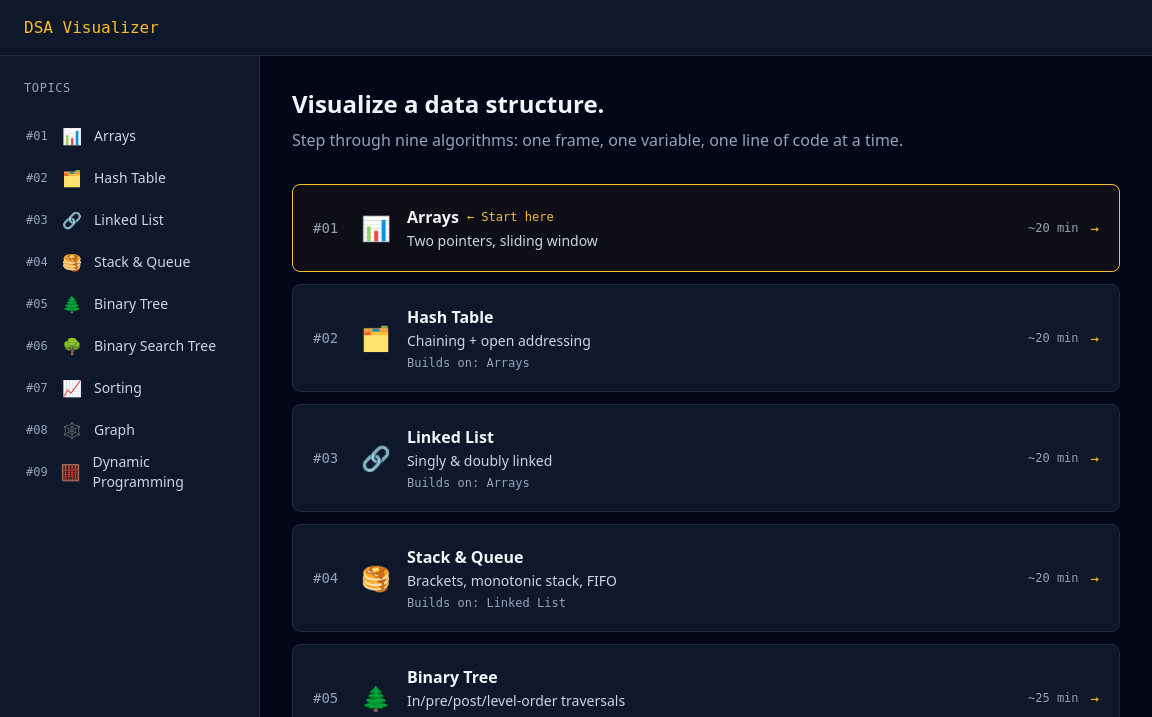
Test: routing › home page → arrays page sets topicStore
The image size is (1152, 717).
Click the link to "/arrays": [81, 136] box top-left (26, 125), bottom-right (136, 147)
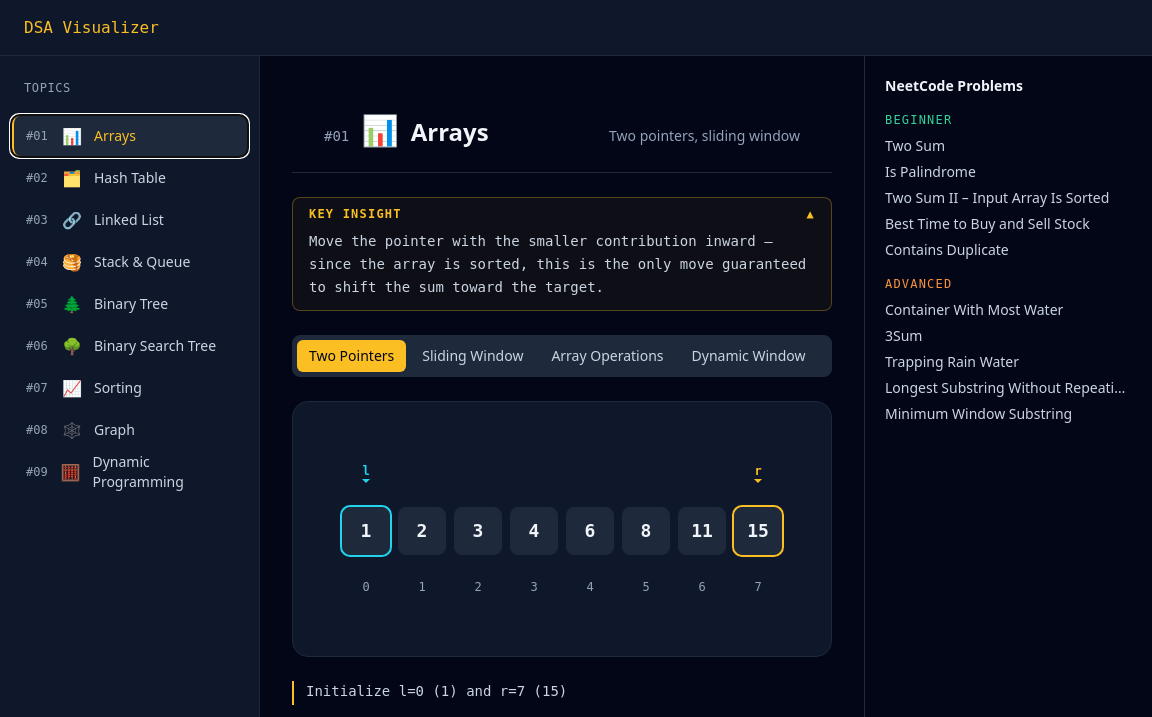
Expected: the element with test id "visualizer-slot" is shown, top-left (292, 401), bottom-right (832, 657)
